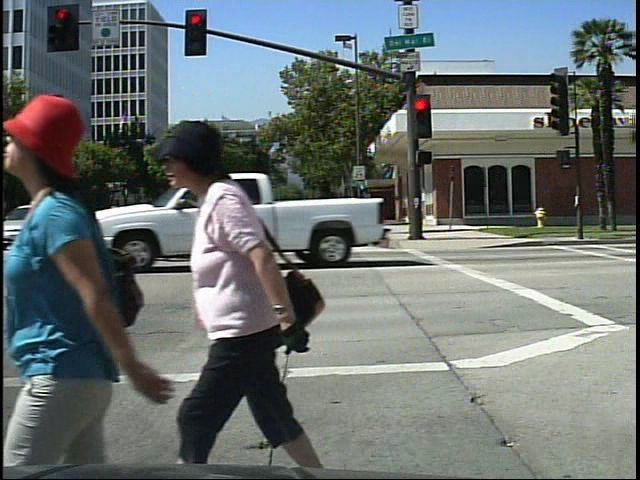person: (166, 109, 348, 471), (23, 79, 168, 469)
